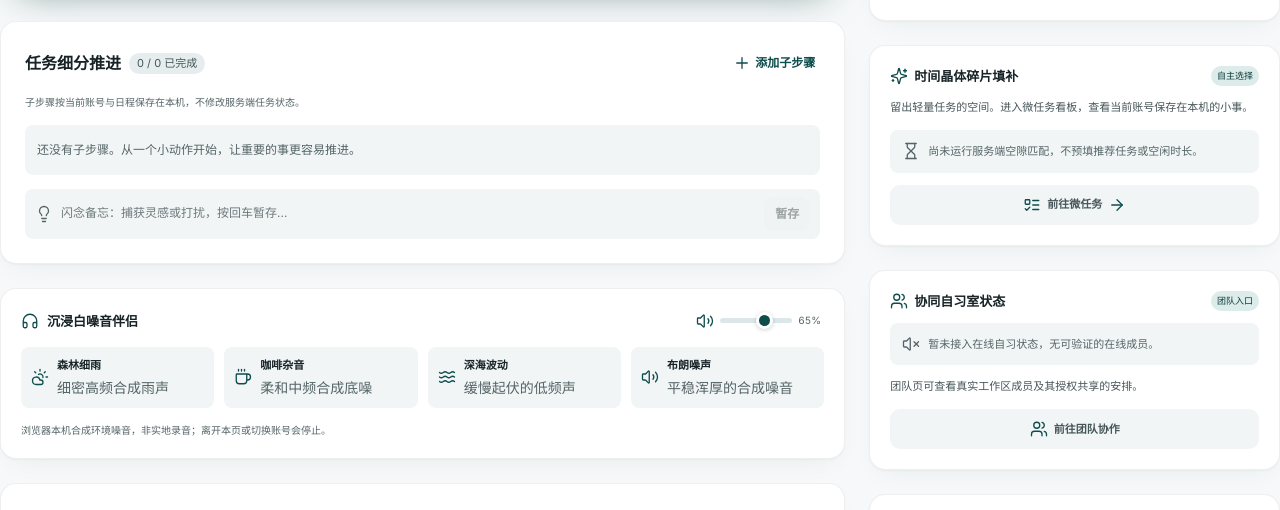
Test: restored local focus tools › offers four honest synthesized soundscapes and reports unsupported audio instead of pretending to play
(page scrolled)
Expected: the button "森林细雨 细密高频合成雨声" is shown, [21,347,214,408]
Expected: the button "咖啡杂音 柔和中频合成底噪" is shown, [224,347,418,408]
Set the slider named "白噪音音量" to "35": x=748, y=321 [720,309,792,333]
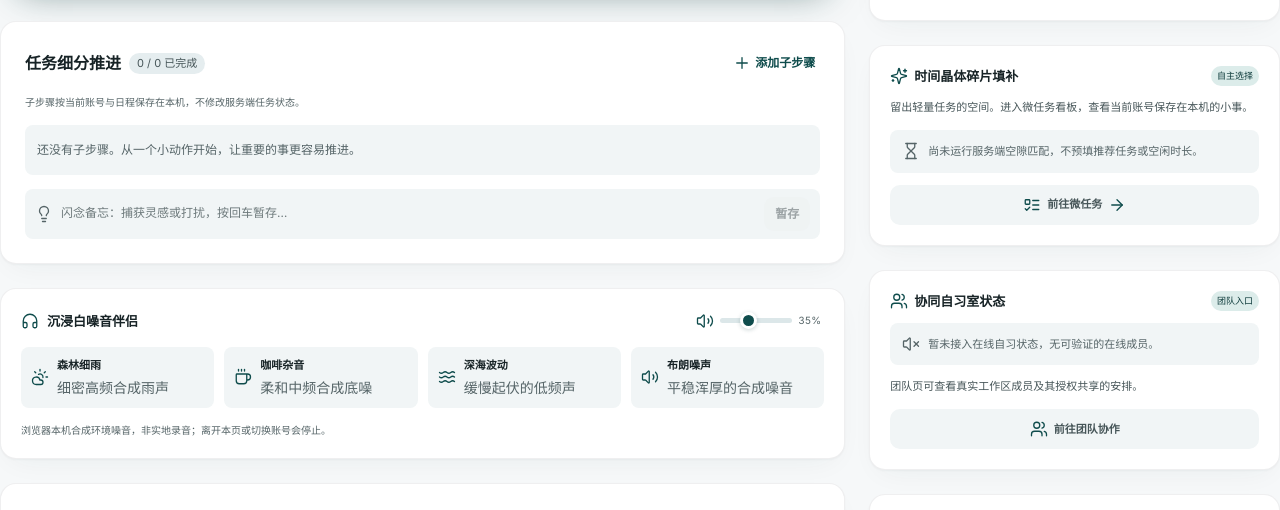
Click the button "森林细雨 细密高频合成雨声": x=118, y=377 [21,347,214,408]
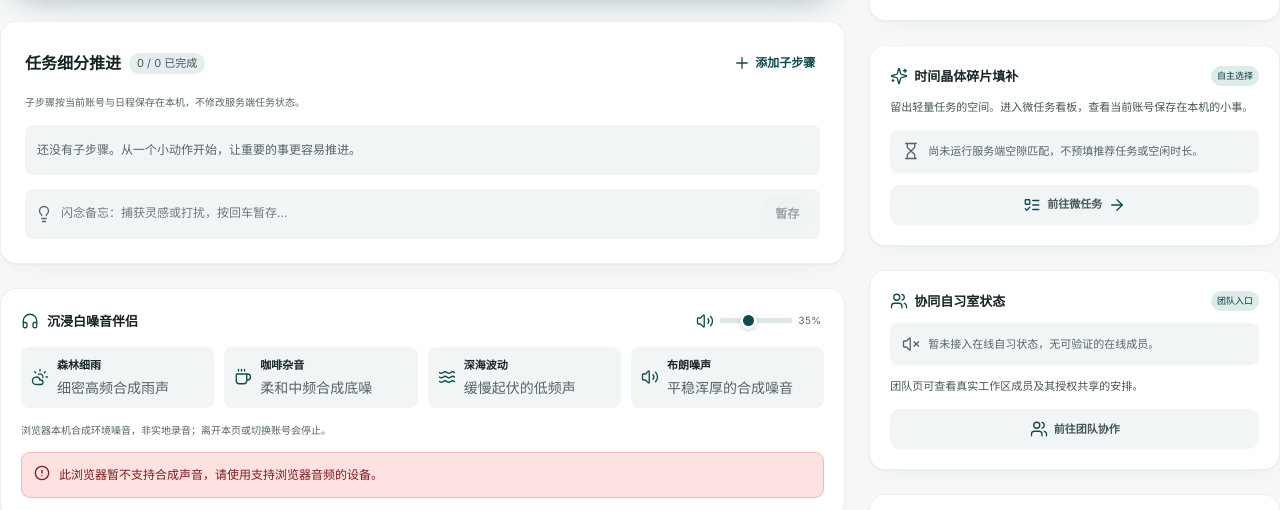
Expected: the message shows "声音", [21,452,824,498]
